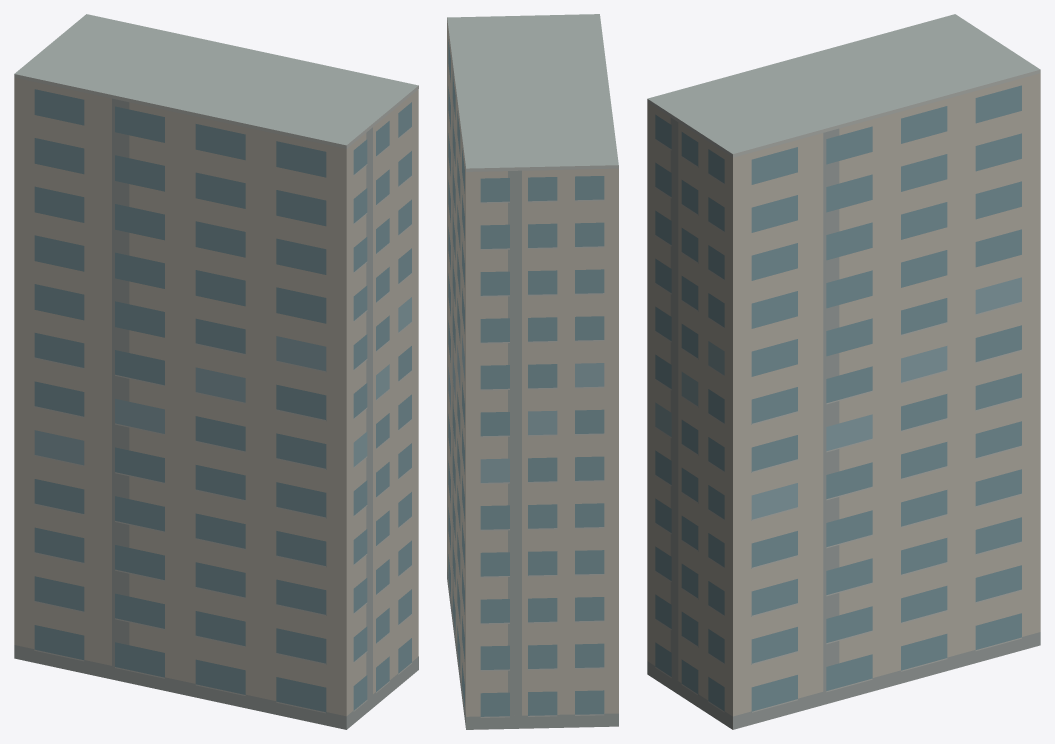
File: residential-5f3cff07-9f1a-469f-8f42-17678c921ed8.glb
3 renders of one model, left to right at view 1: azimuth 30°, elevation 25°; view 2: azimuth 150°, elevation 25°; view 3: azimuth 270°, elevation 25°, orthographic. The views are drawn at different scales.
Visible parts, largest first — view 1: residential-5f3cff07-9f1a-469f-8f42-17678c921ed8.tmp; view 2: residential-5f3cff07-9f1a-469f-8f42-17678c921ed8.tmp; view 3: residential-5f3cff07-9f1a-469f-8f42-17678c921ed8.tmp.
Part boxes in pixels (bbox=[...]): residential-5f3cff07-9f1a-469f-8f42-17678c921ed8.tmp: bbox=[14, 14, 418, 729]; residential-5f3cff07-9f1a-469f-8f42-17678c921ed8.tmp: bbox=[447, 14, 618, 729]; residential-5f3cff07-9f1a-469f-8f42-17678c921ed8.tmp: bbox=[647, 14, 1040, 729].
Bounding box in the file's own units: 20.9 × 40 × 24.78.
